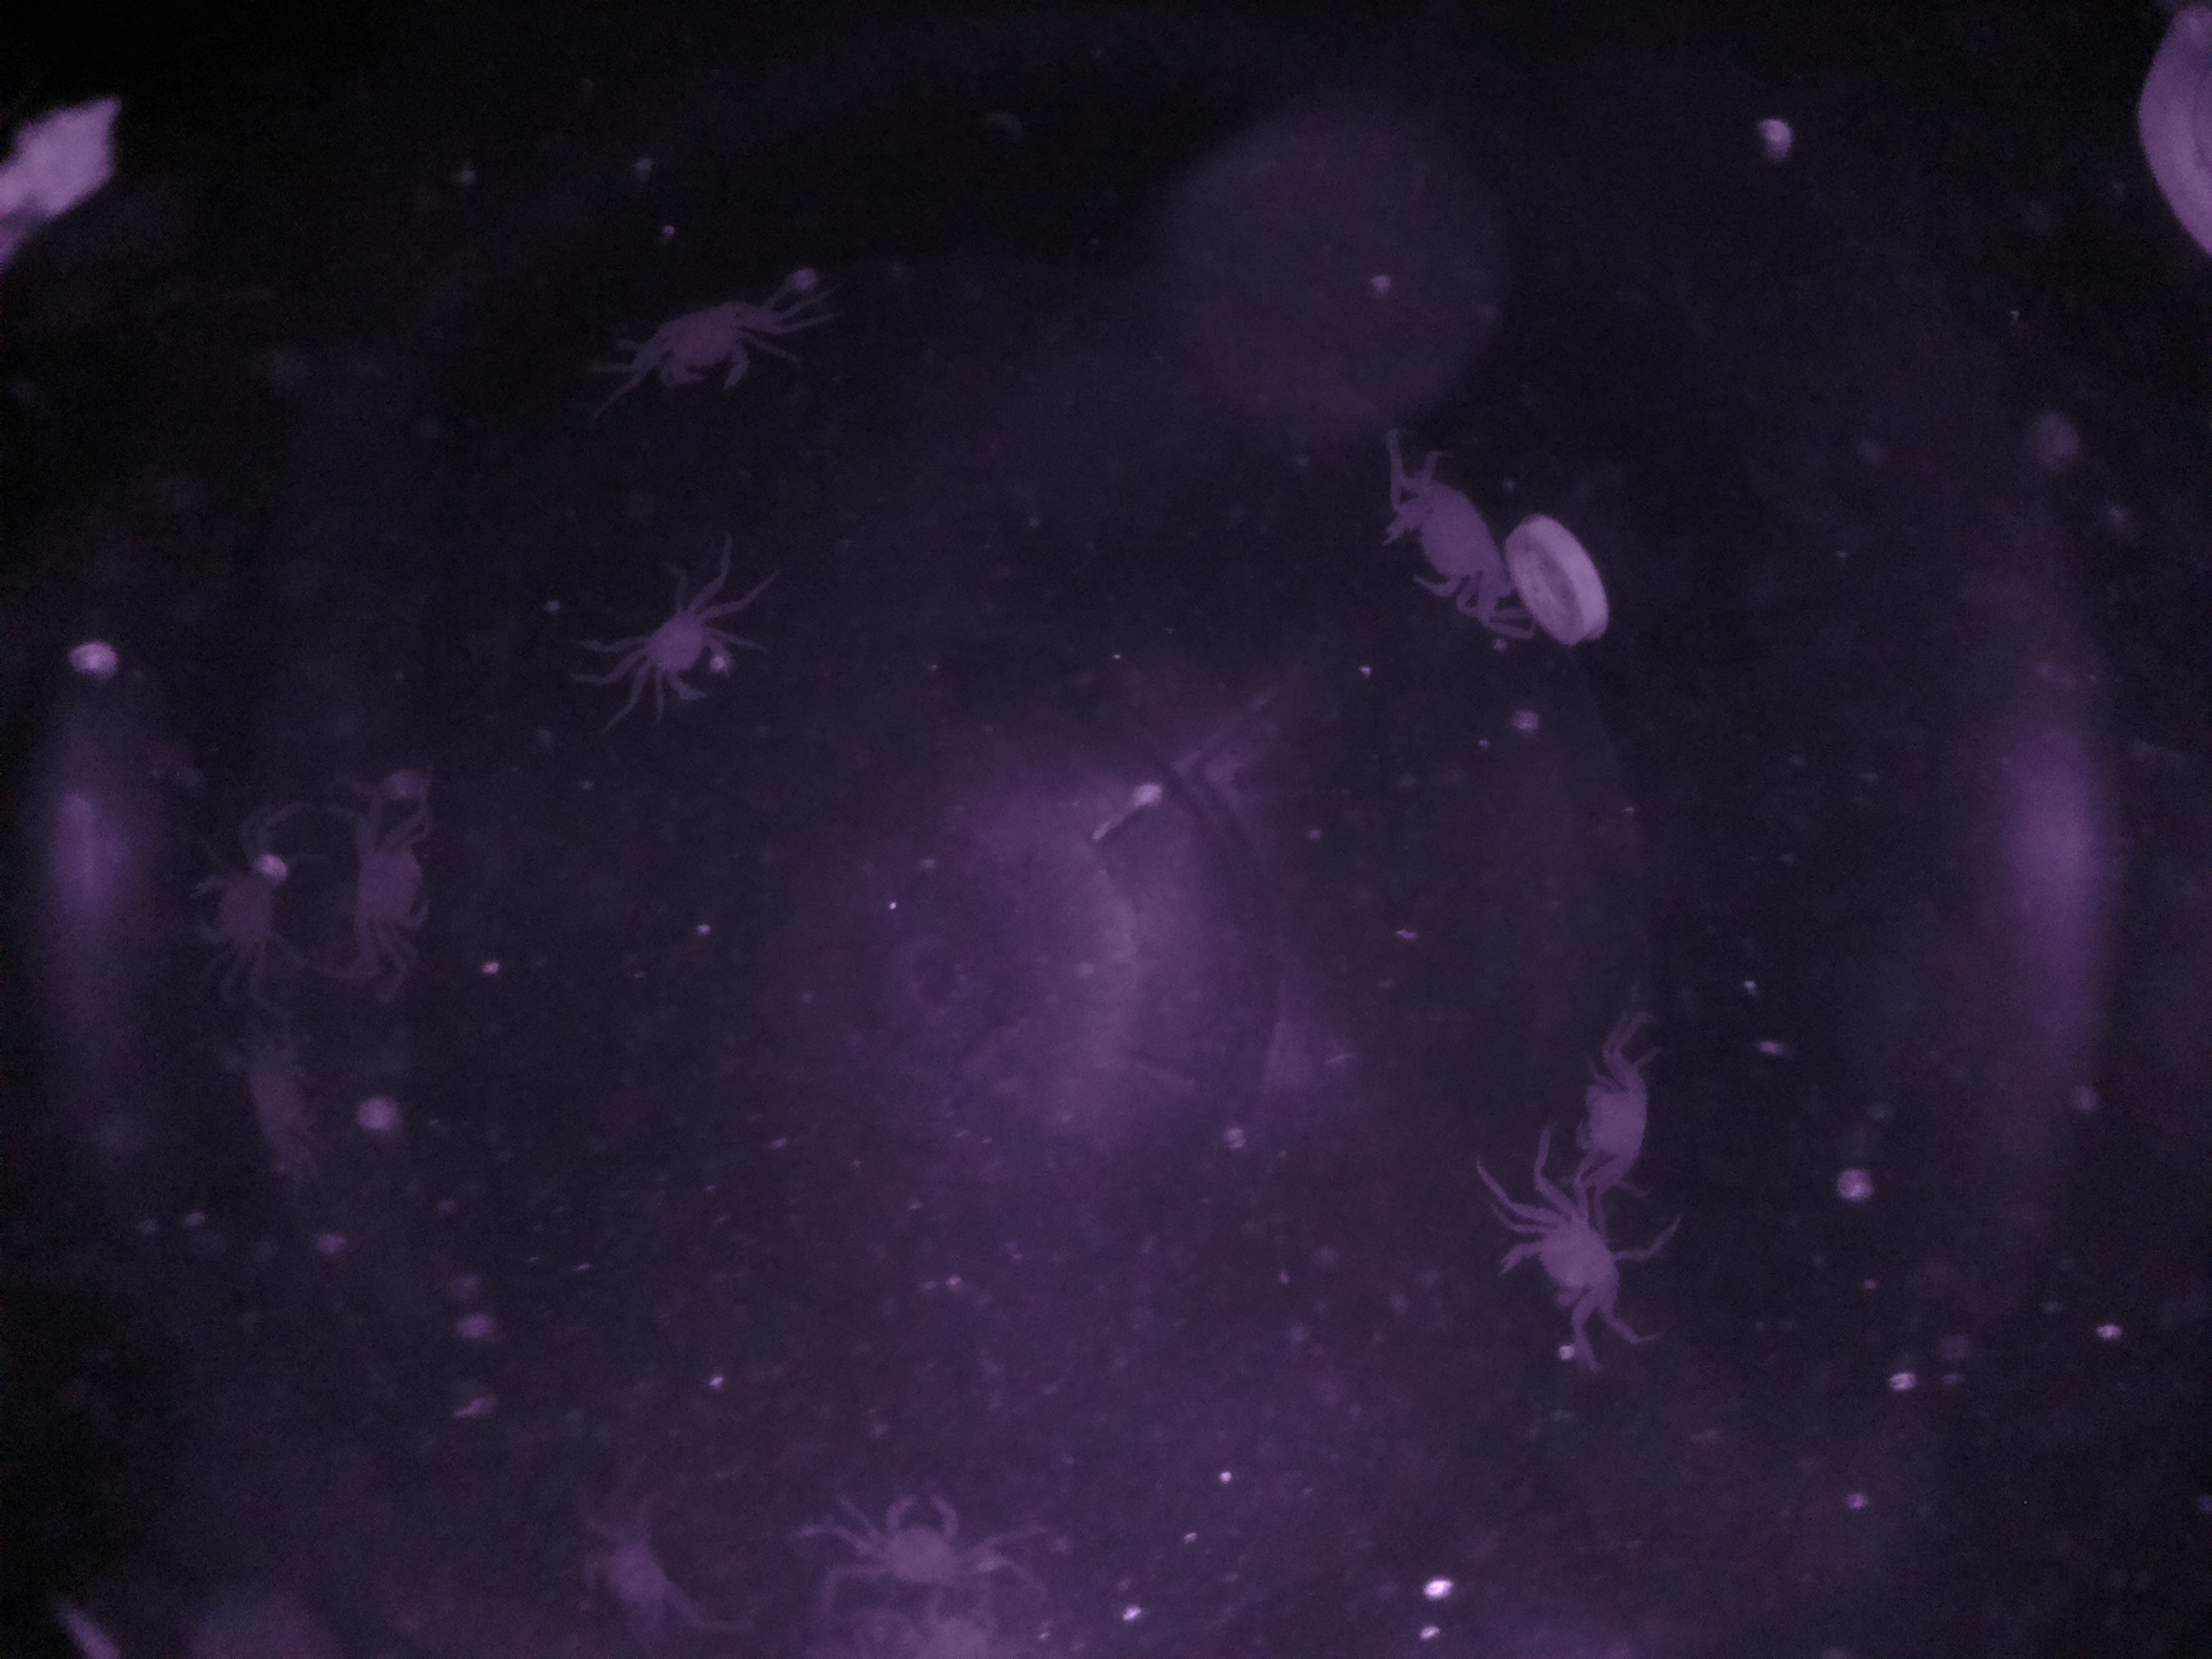Crab: (1493, 1164, 1663, 1363), (1364, 455, 1522, 641), (608, 272, 796, 415), (836, 1471, 1010, 1619), (610, 572, 758, 728), (320, 798, 449, 974)
